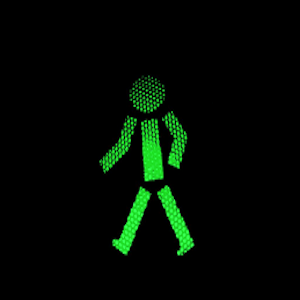green: (85, 64, 211, 260)
